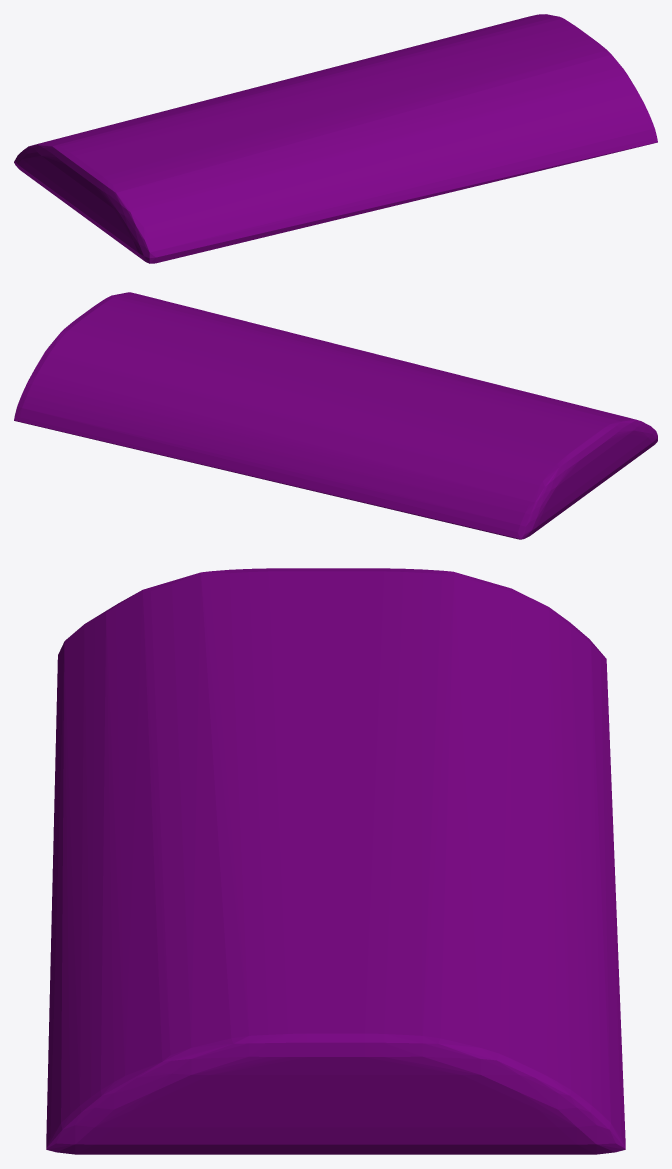
Rendered from left_elbow_link_part_11.obj.
The picture shows the model from 3 angles, top to bottom: view 1: azimuth 30°, elevation 25°; view 2: azimuth 150°, elevation 25°; view 3: azimuth 270°, elevation 25°; orthographic projection. The views are drawn at different scales.
Size of the model in its own units: 0.0905 by 0.0101 by 0.0445.
